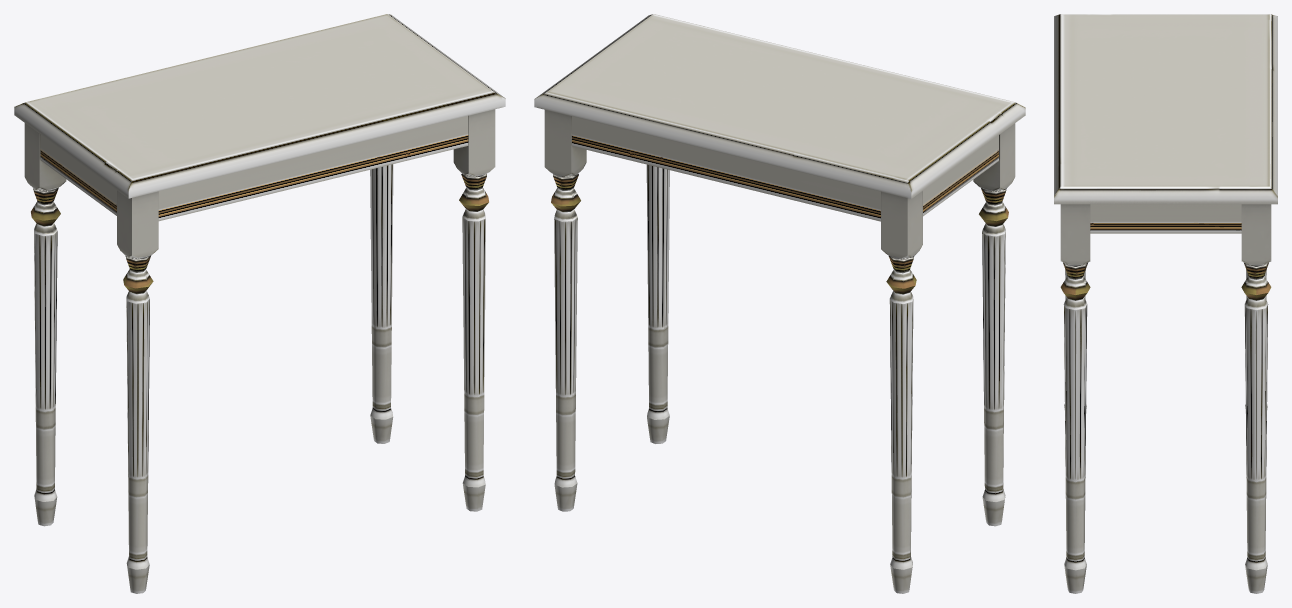
Rendered from Chair05A.FBX.
3 renders of one model, left to right at view 1: azimuth 30°, elevation 25°; view 2: azimuth 150°, elevation 25°; view 3: azimuth 270°, elevation 25°, orthographic. The views are drawn at different scales.
Parts seen in each view (by area): view 1: Chair05A; view 2: Chair05A; view 3: Chair05A.
Part boxes in pixels (x1,y1,x2,y2): Chair05A: (14, 14, 505, 593); Chair05A: (534, 14, 1025, 593); Chair05A: (1054, 14, 1277, 593).
Bounding box in the file's own units: 70.12 × 36.8 × 74.39.
